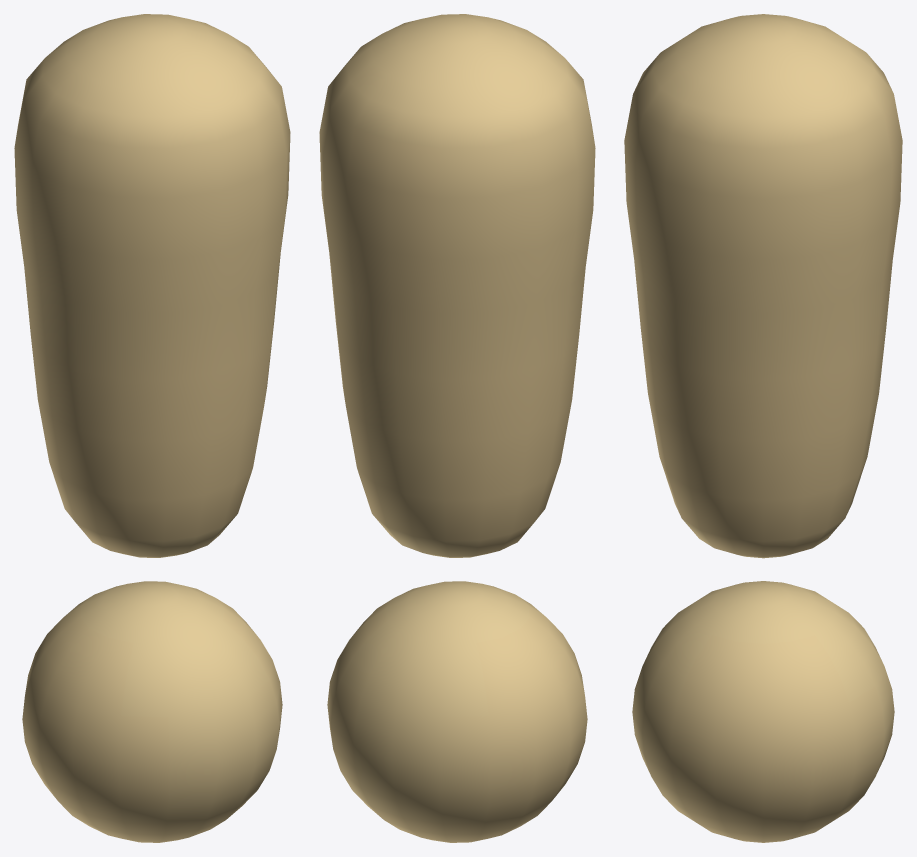
The model's file is Exclamation mark.fbx.
3 views of the same model, side by side, from view 1: azimuth 30°, elevation 25°; view 2: azimuth 150°, elevation 25°; view 3: azimuth 270°, elevation 25° (orthographic).
Parts seen in each view (by area): view 1: pSphere4; view 2: pSphere4; view 3: pSphere4.
Part boxes in pixels (left/top/right/bottom): pSphere4: left=14, top=14, right=290, bottom=842; pSphere4: left=319, top=14, right=595, bottom=842; pSphere4: left=624, top=14, right=902, bottom=842.
Bounding box in the file's own units: 1.77 × 5.62 × 1.77.
